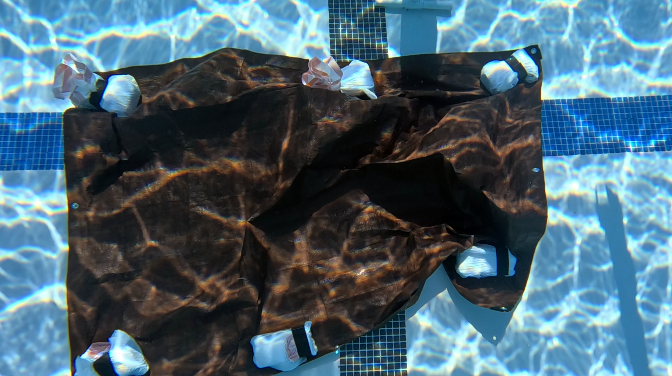sandbag: (50, 45, 548, 375)
